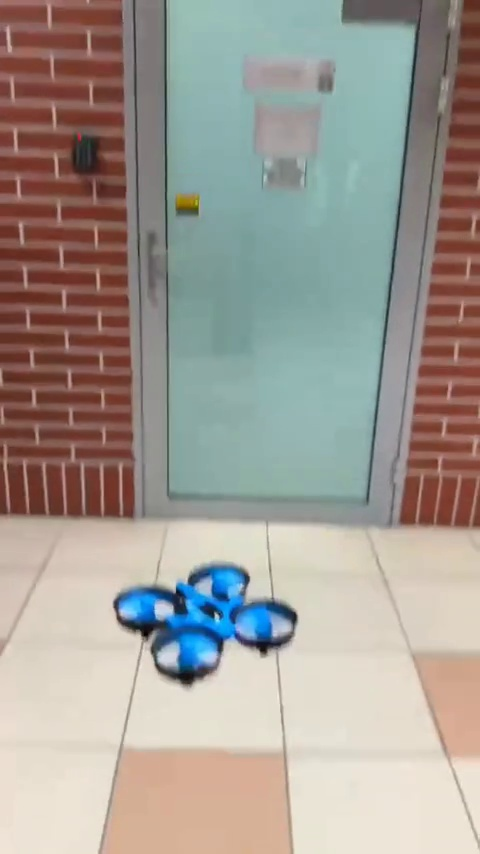drone: (116, 566, 295, 680)
